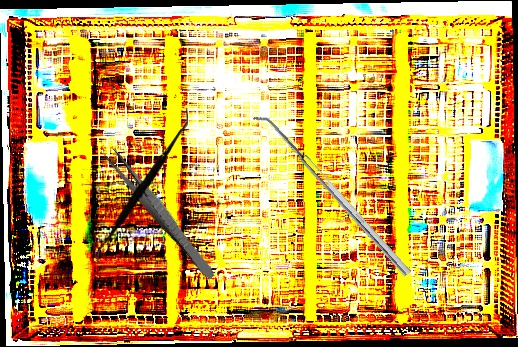Dressing Forceps: (101, 145, 221, 282)
Spatula Surgical: (251, 108, 412, 283), (95, 106, 188, 266)
